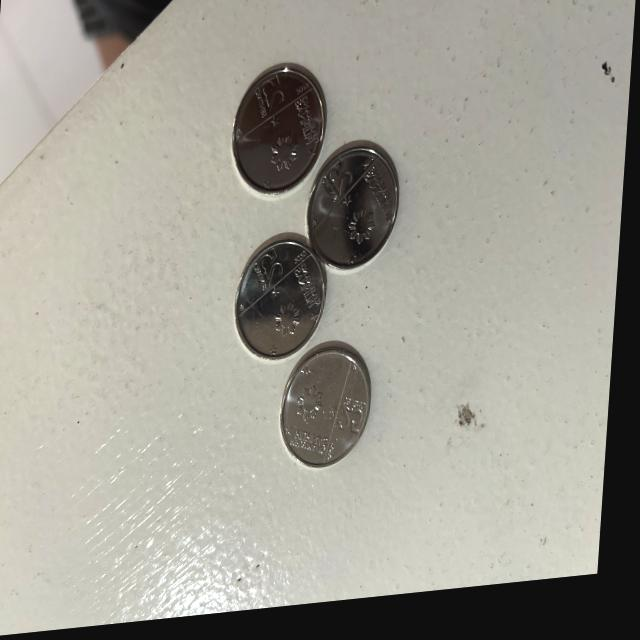25Cent_New_Front: (252, 246, 299, 296), (340, 398, 380, 454), (246, 75, 290, 121), (319, 163, 353, 211)
